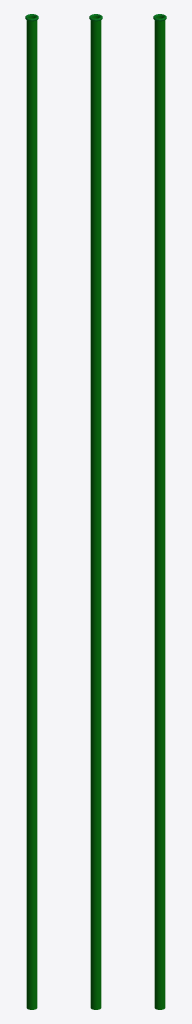
The model's file is longPipe.fbx.
The picture shows the model from 3 angles, left to right: view 1: azimuth 90°, elevation 25°; view 2: azimuth 150°, elevation 25°; view 3: azimuth 330°, elevation 25°; orthographic projection.
Visible parts, largest first — view 1: Cylinder; view 2: Cylinder; view 3: Cylinder.
Part boxes in pixels (x1,y1,x2,y2): Cylinder: [26, 16, 37, 1009]; Cylinder: [90, 16, 101, 1009]; Cylinder: [154, 16, 165, 1009].
Bounding box in the file's own units: 250 × 20025 × 250.
